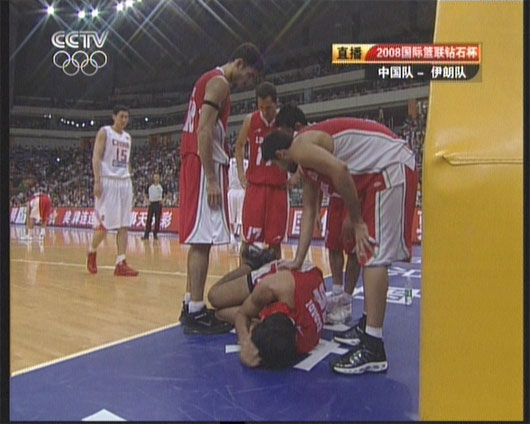10+: (1, 44, 435, 387)
down: (203, 245, 335, 376)
